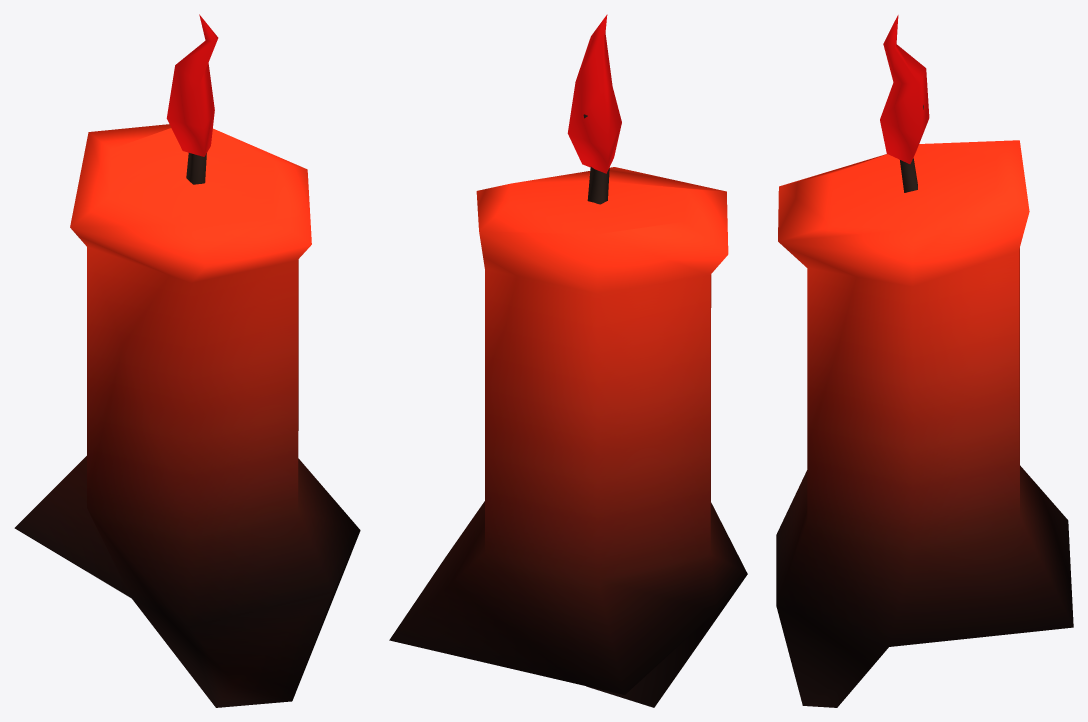
Rendered from CandleShapeE.010.glb.
3 renders of one model, left to right at view 1: azimuth 30°, elevation 25°; view 2: azimuth 150°, elevation 25°; view 3: azimuth 270°, elevation 25°, orthographic. The views are drawn at different scales.
Visible parts, largest first — view 1: CandleShapeE.010; view 2: CandleShapeE.010; view 3: CandleShapeE.010.
Boxes of the visible parts, bbox=[...] form: CandleShapeE.010: bbox=[14, 14, 360, 707]; CandleShapeE.010: bbox=[389, 14, 747, 707]; CandleShapeE.010: bbox=[776, 15, 1073, 707].
Size of the model in its own units: 0.1424 by 0.327 by 0.1308.
2 materials, 2 textured.
